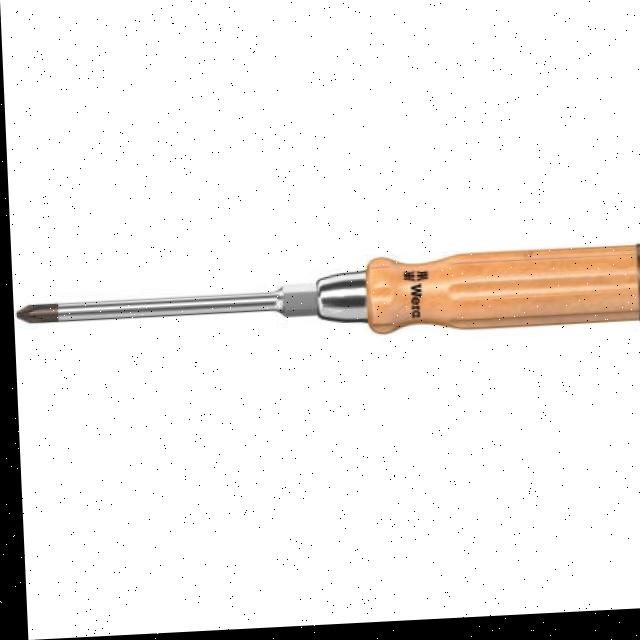Screwdriver: (13, 252, 640, 338)
